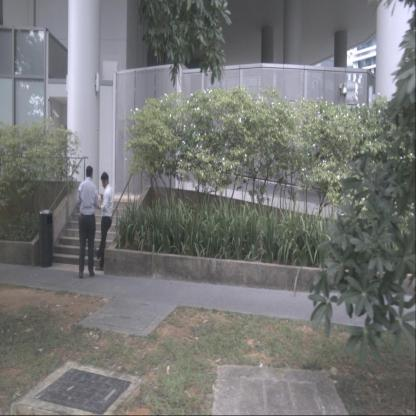human-pedestrian-adult: (77, 166, 99, 278), (93, 172, 114, 272)
